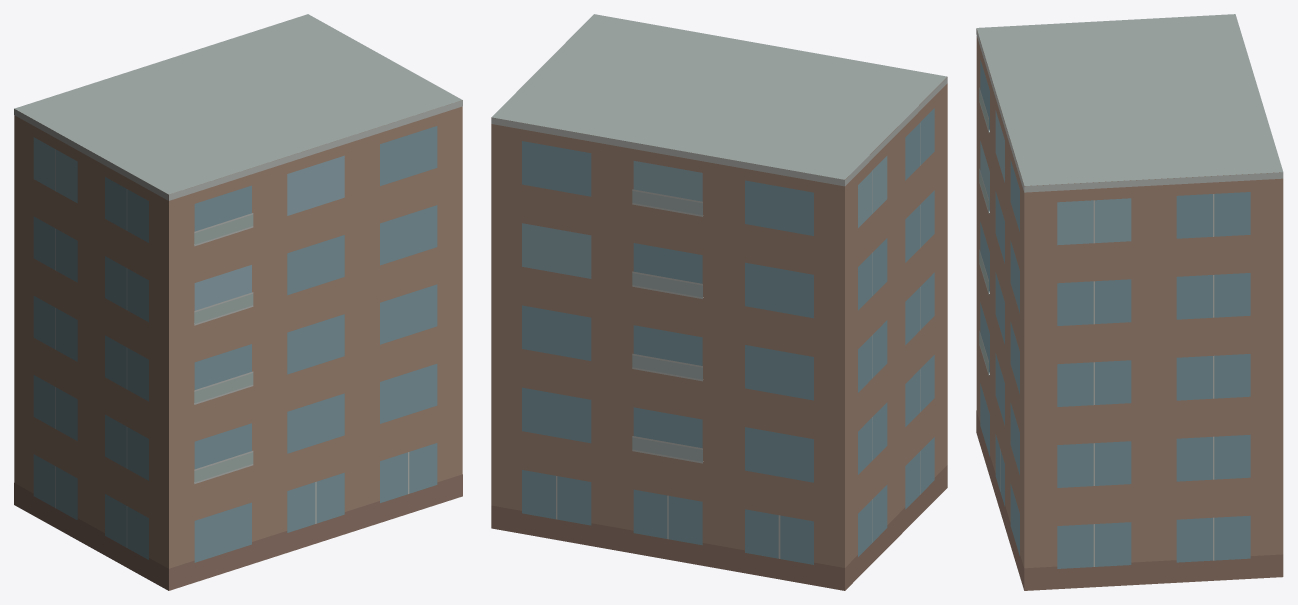
File: survey-upis-32696238.glb
3 views of the same model, side by side, from view 1: azimuth 30°, elevation 25°; view 2: azimuth 150°, elevation 25°; view 3: azimuth 270°, elevation 25° (orthographic). The views are drawn at different scales.
Parts seen in each view (by area): view 1: survey-upis-32696238.tmp; view 2: survey-upis-32696238.tmp; view 3: survey-upis-32696238.tmp.
Part boxes in pixels (x1,y1,x2,y2): survey-upis-32696238.tmp: [14, 14, 462, 590]; survey-upis-32696238.tmp: [491, 14, 947, 590]; survey-upis-32696238.tmp: [976, 14, 1283, 590].
Bounding box in the file's own units: 13.91 × 15.25 × 10.49.
